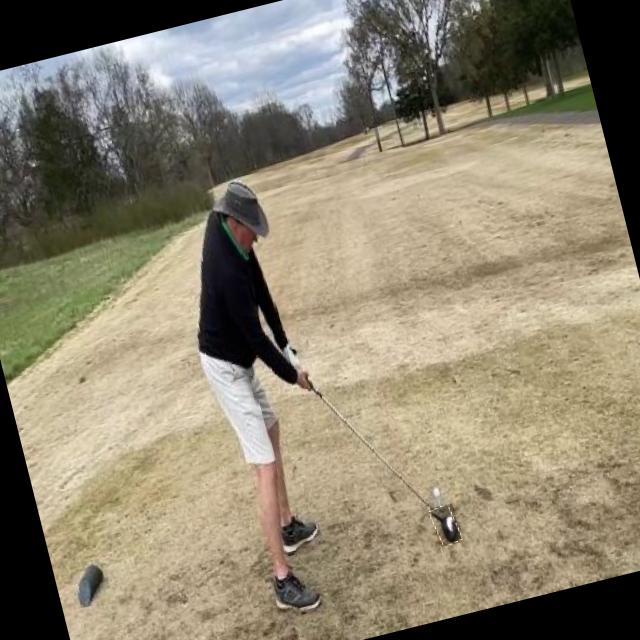club head: (429, 502, 462, 546)
